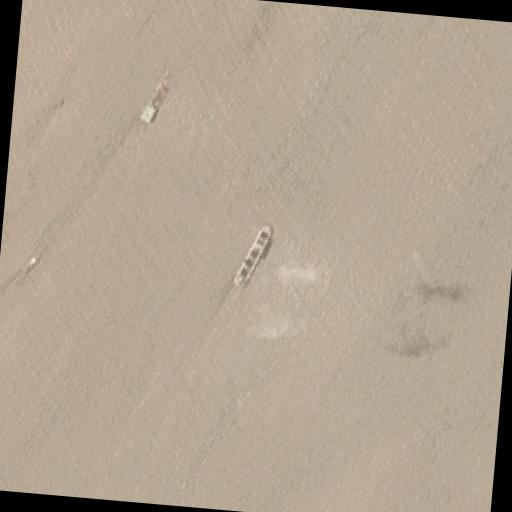ship: (234, 220, 278, 292)
